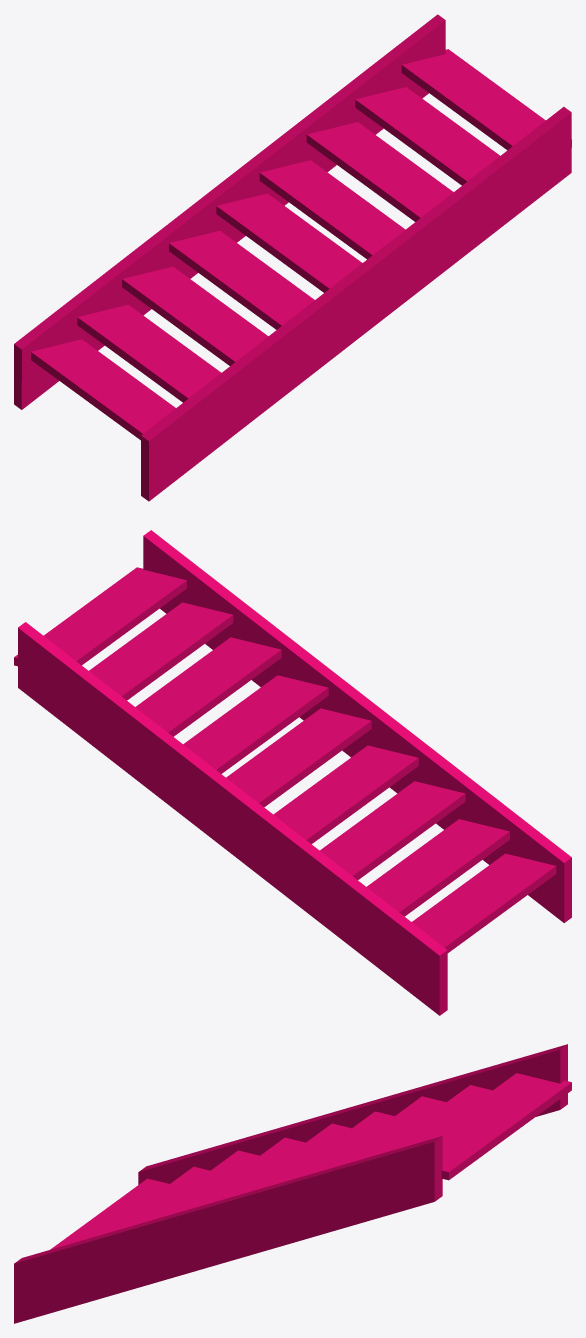
File: Bastion_Stair_02_Lod0.fbx
3 renders of one model, top to bottom at view 1: azimuth 30°, elevation 25°; view 2: azimuth 150°, elevation 25°; view 3: azimuth 330°, elevation 25°, orthographic.
Visible parts, largest first — view 1: Bastion_Stair_02_Lod0; view 2: Bastion_Stair_02_Lod0; view 3: Bastion_Stair_02_Lod0.
Part boxes in pixels (x1,y1,x2,y2): Bastion_Stair_02_Lod0: (14,14,571,501); Bastion_Stair_02_Lod0: (14,530,571,1015); Bastion_Stair_02_Lod0: (14,1044,571,1323).
Size of the model in its own units: 299 by 190 by 161.
